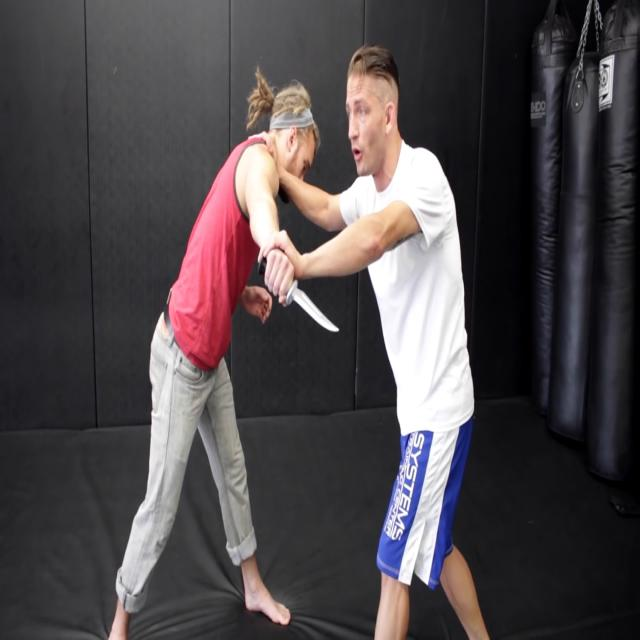knife: (290, 280, 344, 339)
